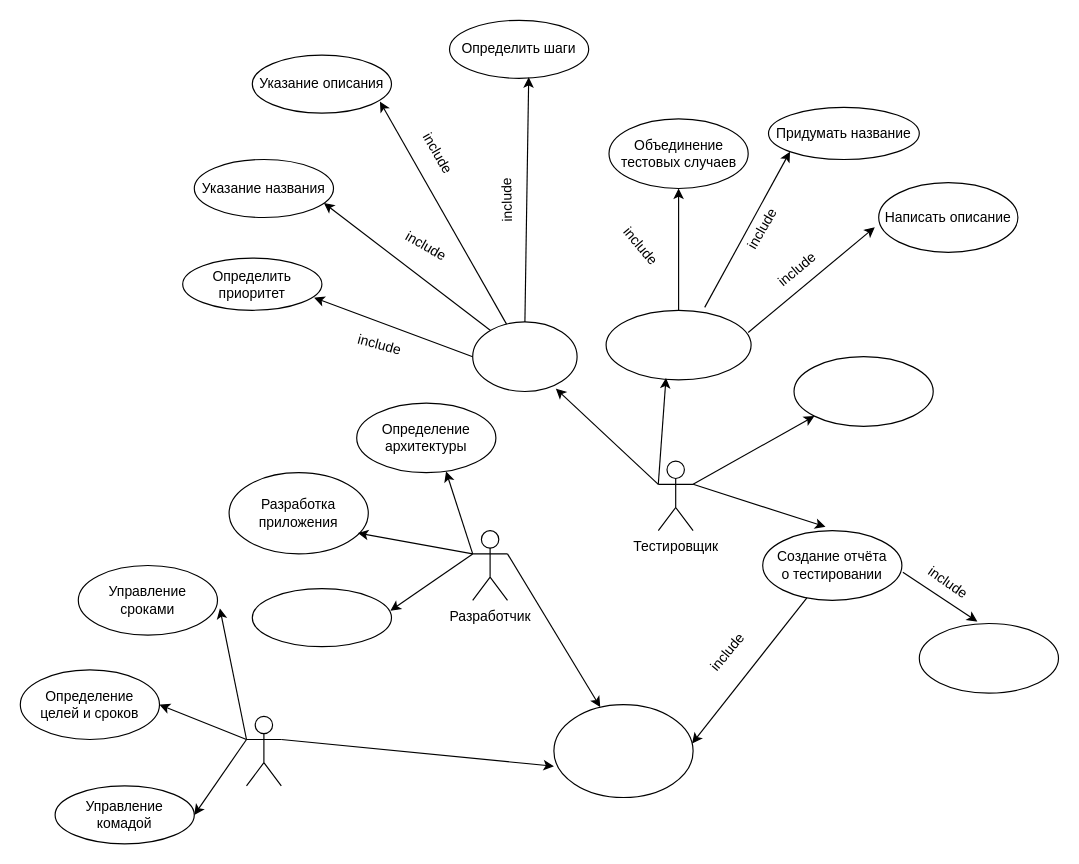
This 1079x864 diagram has some shape labels left out. The centre of each missing label's shape, as x and y in pixels:
Выполнение теста: point (863, 391)
информация о дефектах: point (988, 657)
Менеджер проекта: point (263, 750)
Проектирование: point (321, 617)
Просматривать отчёты: point (623, 751)
Создавать тестовый случай: point (524, 356)
Создание тестового набора: point (678, 344)
